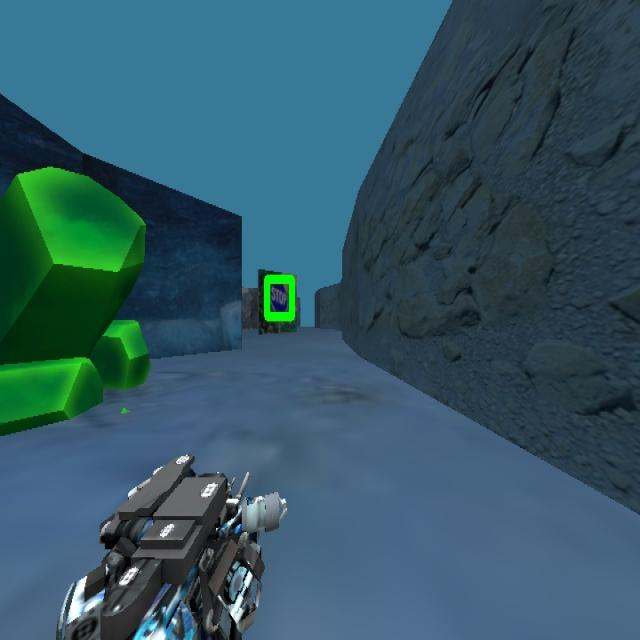Diamon: (0, 165, 149, 435)
Stop_Sign: (262, 272, 296, 323)
